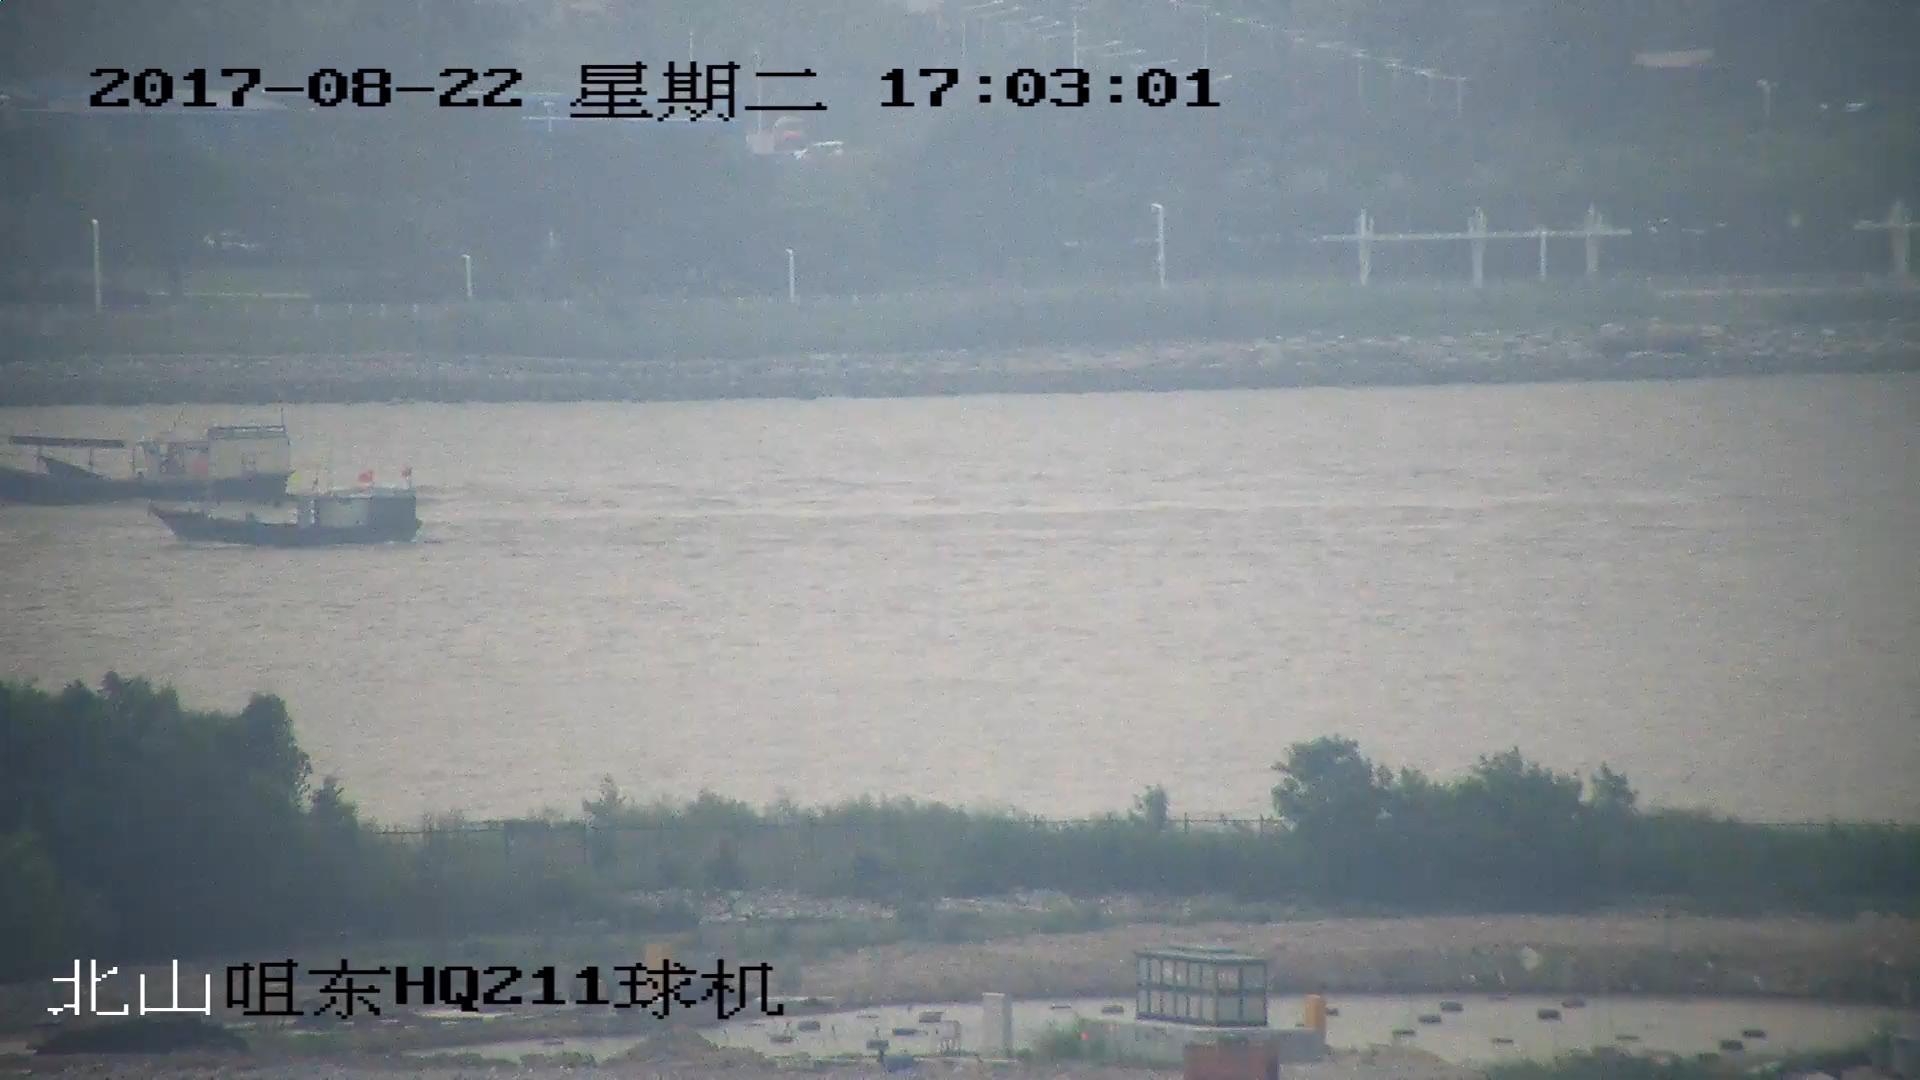fishing boat: (1, 422, 301, 493), (157, 467, 425, 546)
